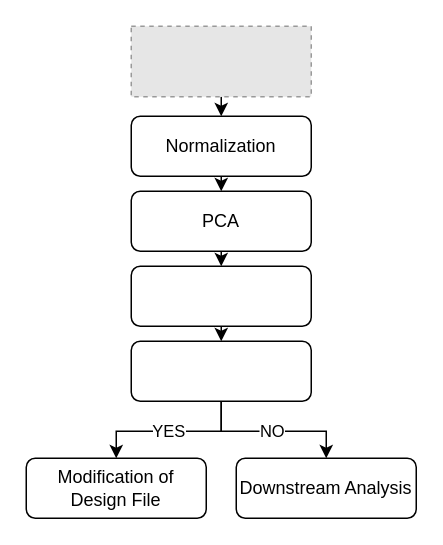
This 443x545 diagram has some shape labels left out. Grey dashed boxes stand in for pictures. Here are the shapes that lost their labels. From the top down, the centre of each, then its label:
At point 220,295: "Regression Analysis".
At point 220,370: "Identification of meaningful PCs.".
